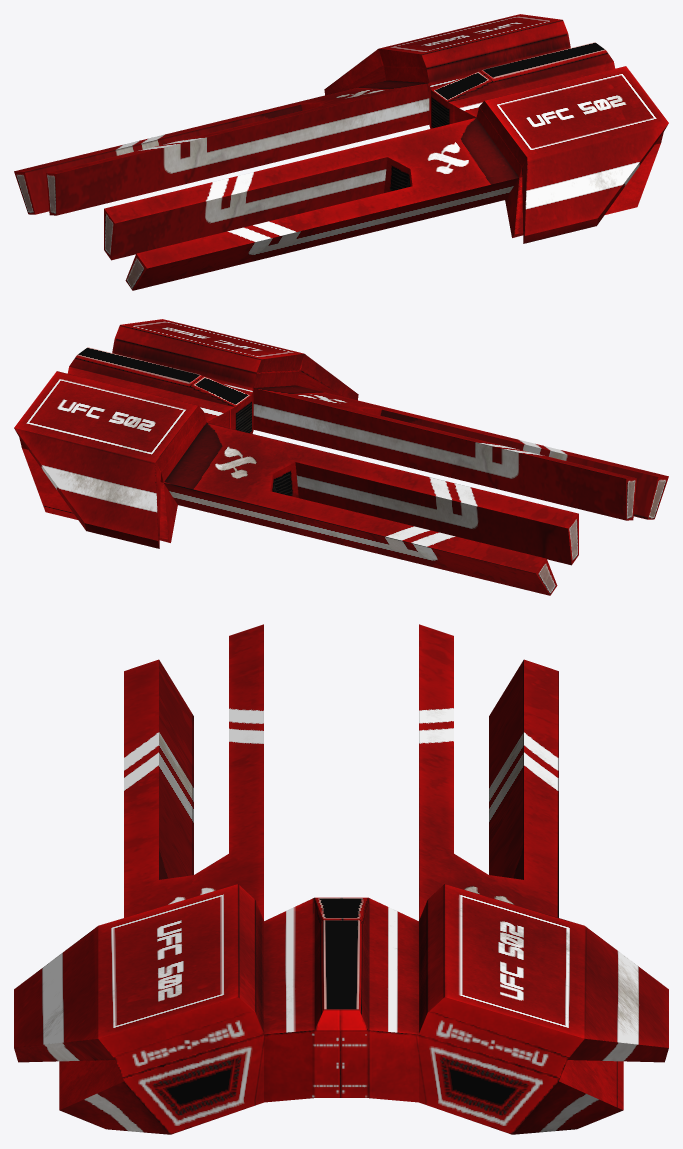
The model's file is traffic_red.glb.
3 renders of one model, top to bottom at view 1: azimuth 30°, elevation 25°; view 2: azimuth 150°, elevation 25°; view 3: azimuth 270°, elevation 25°, orthographic. The views are drawn at different scales.
Parts seen in each view (by area): view 1: Cube; view 2: Cube; view 3: Cube.
Boxes of the visible parts, x1,y1,x2,y2 form: Cube: (14,14,668,290); Cube: (14,319,668,595); Cube: (14,624,668,1134).
Bounding box in the file's own units: 10.23 × 1.9 × 6.76.
1 material, 1 textured.
